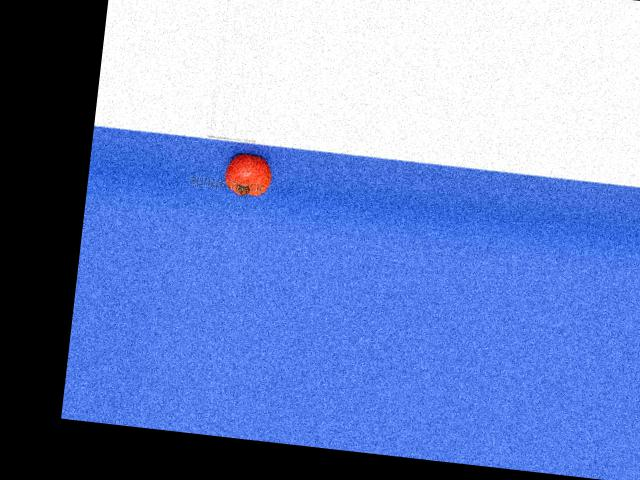tomato: (224, 152, 274, 198)
